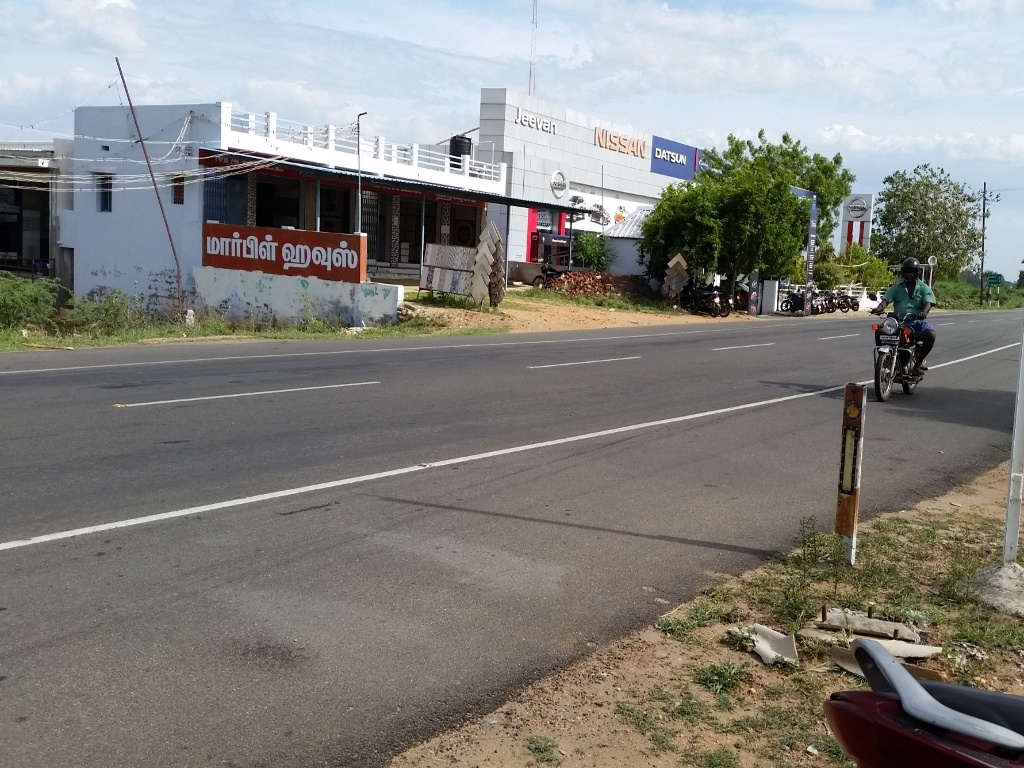biker: (853, 235, 958, 411)
helmet: (896, 252, 932, 291)
